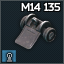M14 Enlarged Military Aperture rear sight: (0, 0, 64, 64)
